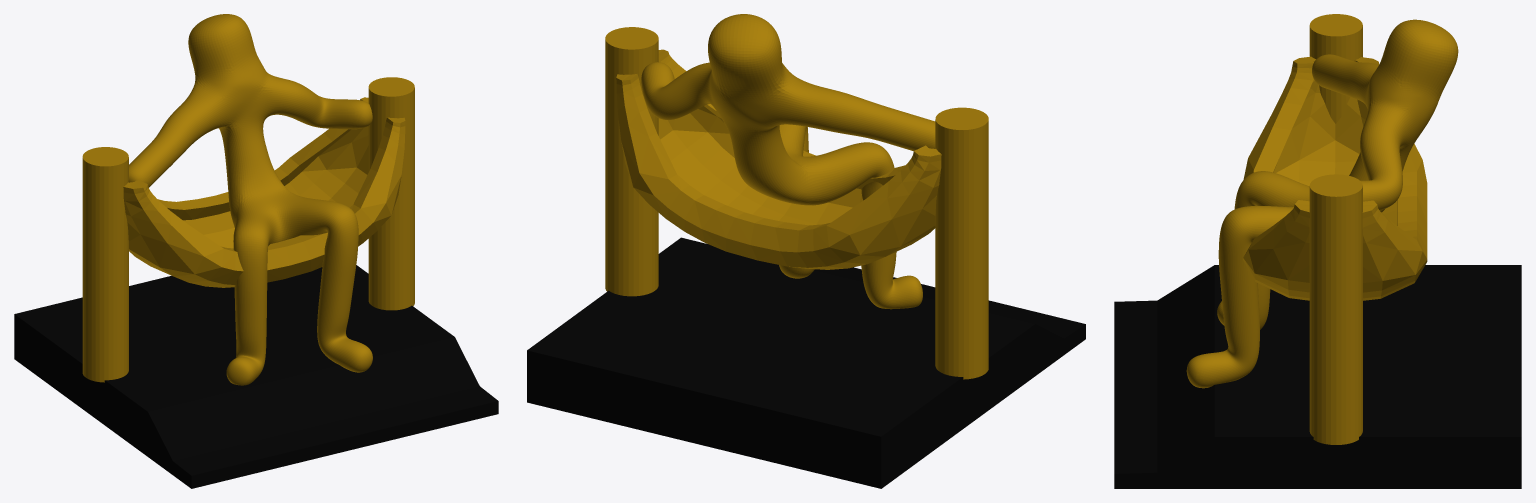
3 renders of one model, left to right at view 1: azimuth 30°, elevation 25°; view 2: azimuth 150°, elevation 25°; view 3: azimuth 270°, elevation 25°, orthographic. The views are drawn at different scales.
Visible parts, largest first — view 1: base.008, Plane.008, Torus, Cylinder, Cylinder.001; view 2: base.008, Torus, Plane.008, Cylinder, Cylinder.001; view 3: base.008, Plane.008, Torus, Cylinder.001, Cylinder.
Part boxes in pixels (x1=…): base.008: x1=14, y1=265, x2=498, y2=488; Plane.008: x1=128, y1=14, x2=372, y2=385; Torus: x1=123, y1=97, x2=405, y2=287; Cylinder: x1=82, y1=147, x2=128, y2=382; Cylinder.001: x1=368, y1=77, x2=414, y2=310; base.008: x1=527, y1=237, x2=1085, y2=488; Torus: x1=616, y1=49, x2=941, y2=269; Plane.008: x1=641, y1=14, x2=935, y2=309; Cylinder: x1=935, y1=107, x2=988, y2=379; Cylinder.001: x1=605, y1=27, x2=658, y2=296; base.008: x1=1114, y1=265, x2=1521, y2=488; Plane.008: x1=1186, y1=19, x2=1458, y2=388; Torus: x1=1243, y1=56, x2=1427, y2=300; Cylinder.001: x1=1309, y1=174, x2=1362, y2=444; Cylinder: x1=1309, y1=14, x2=1362, y2=123.
Size of the model in its own units: 84.86 by 83.23 by 79.88.
